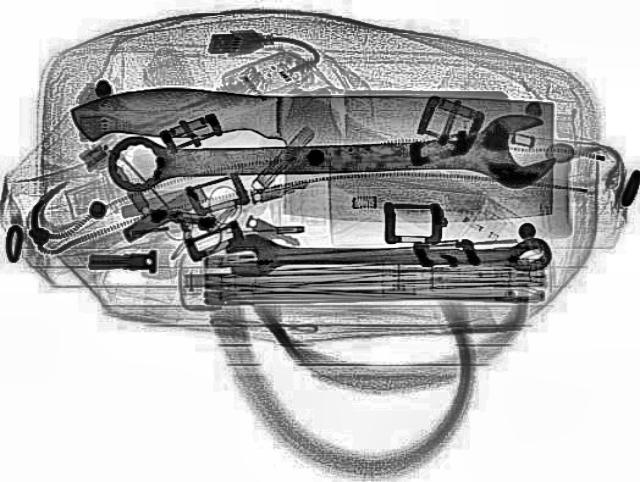Knife: (64, 84, 558, 226)
Wrench: (101, 112, 553, 196), (222, 232, 550, 276)
